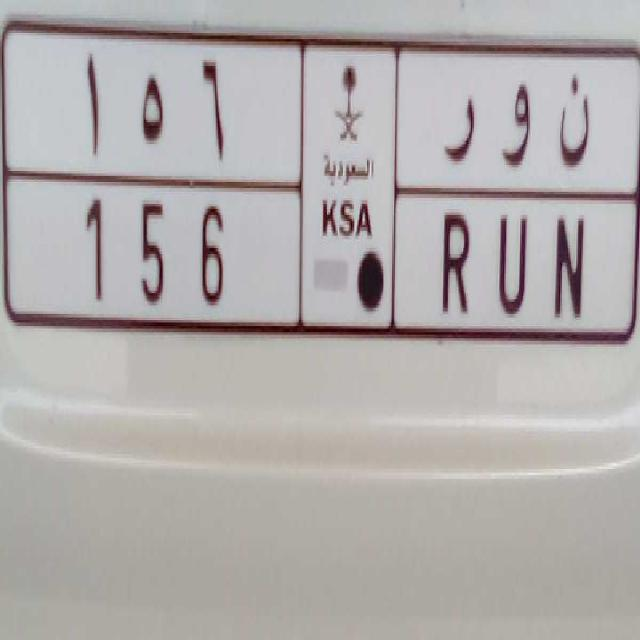license_plate: (46, 177, 598, 342)
